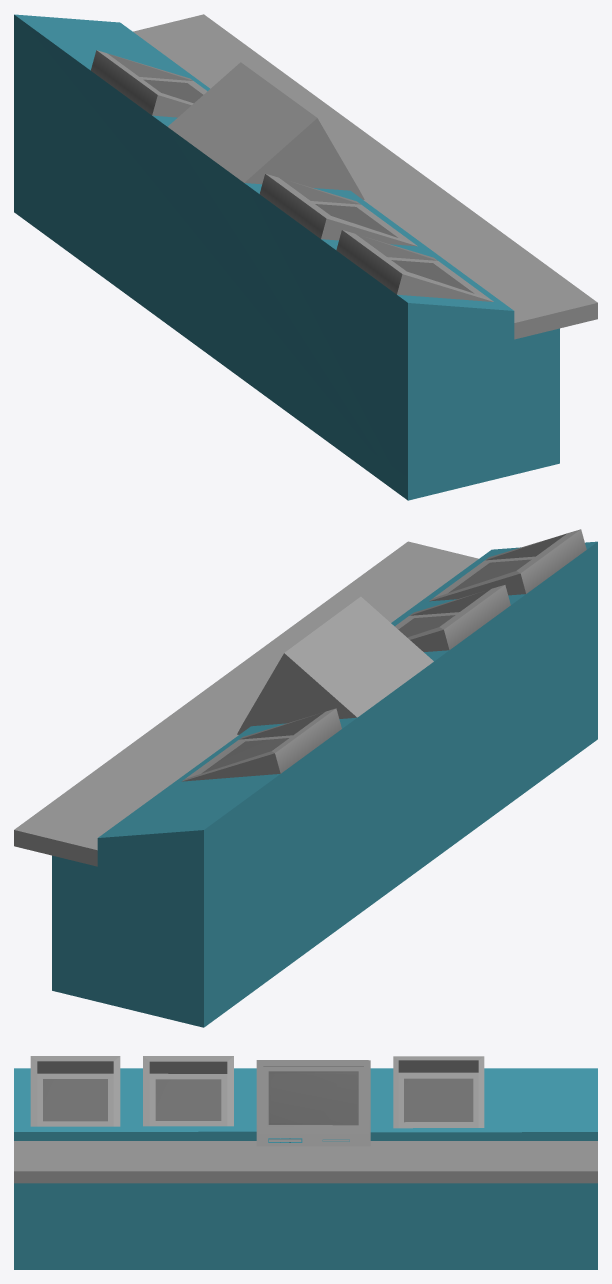
Rendered from A_ComputerConsole.fbx.
3 views of the same model, one above another, from view 1: azimuth 30°, elevation 25°; view 2: azimuth 150°, elevation 25°; view 3: azimuth 270°, elevation 25° (orthographic). The views are drawn at different scales.
Visible parts, largest first — view 1: A_ComputerConsole; view 2: A_ComputerConsole; view 3: A_ComputerConsole.
Part boxes in pixels (bbox=[...]): A_ComputerConsole: bbox=[14, 14, 597, 500]; A_ComputerConsole: bbox=[14, 529, 597, 1027]; A_ComputerConsole: bbox=[14, 1056, 597, 1269].
Size of the model in its own units: 4.54 by 5.59 by 16.3.
